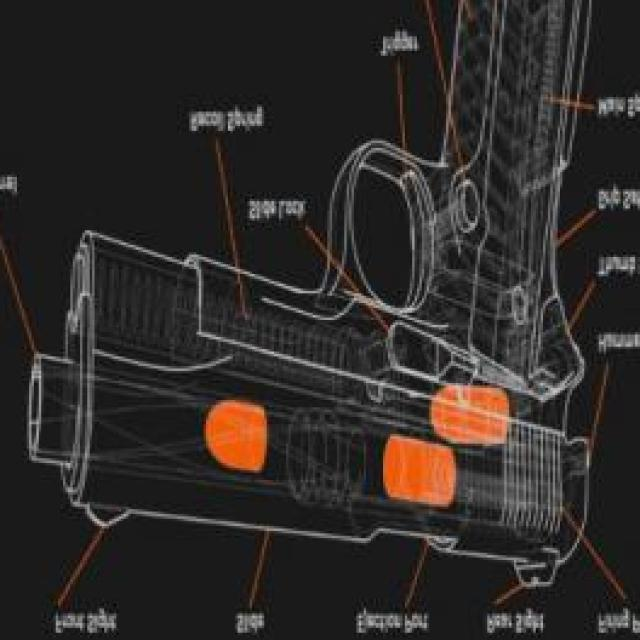pistol: (29, 0, 599, 589)
